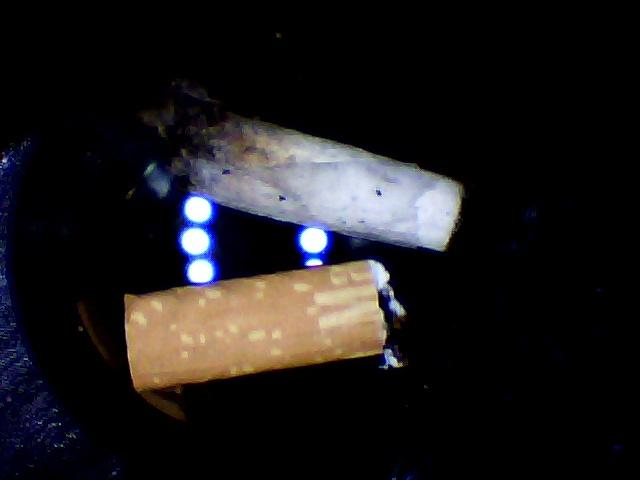megot: (144, 72, 479, 248), (114, 250, 417, 406)
